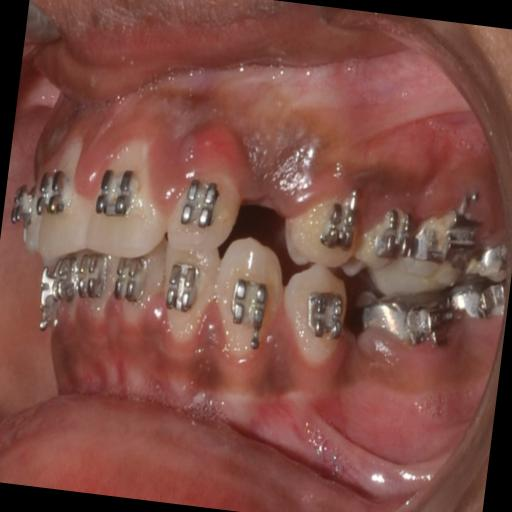correct_brace: (274, 172, 364, 266), (221, 272, 270, 342), (91, 158, 142, 224), (176, 171, 222, 233)
incorrect_brace: (80, 129, 178, 267), (322, 199, 359, 252)
